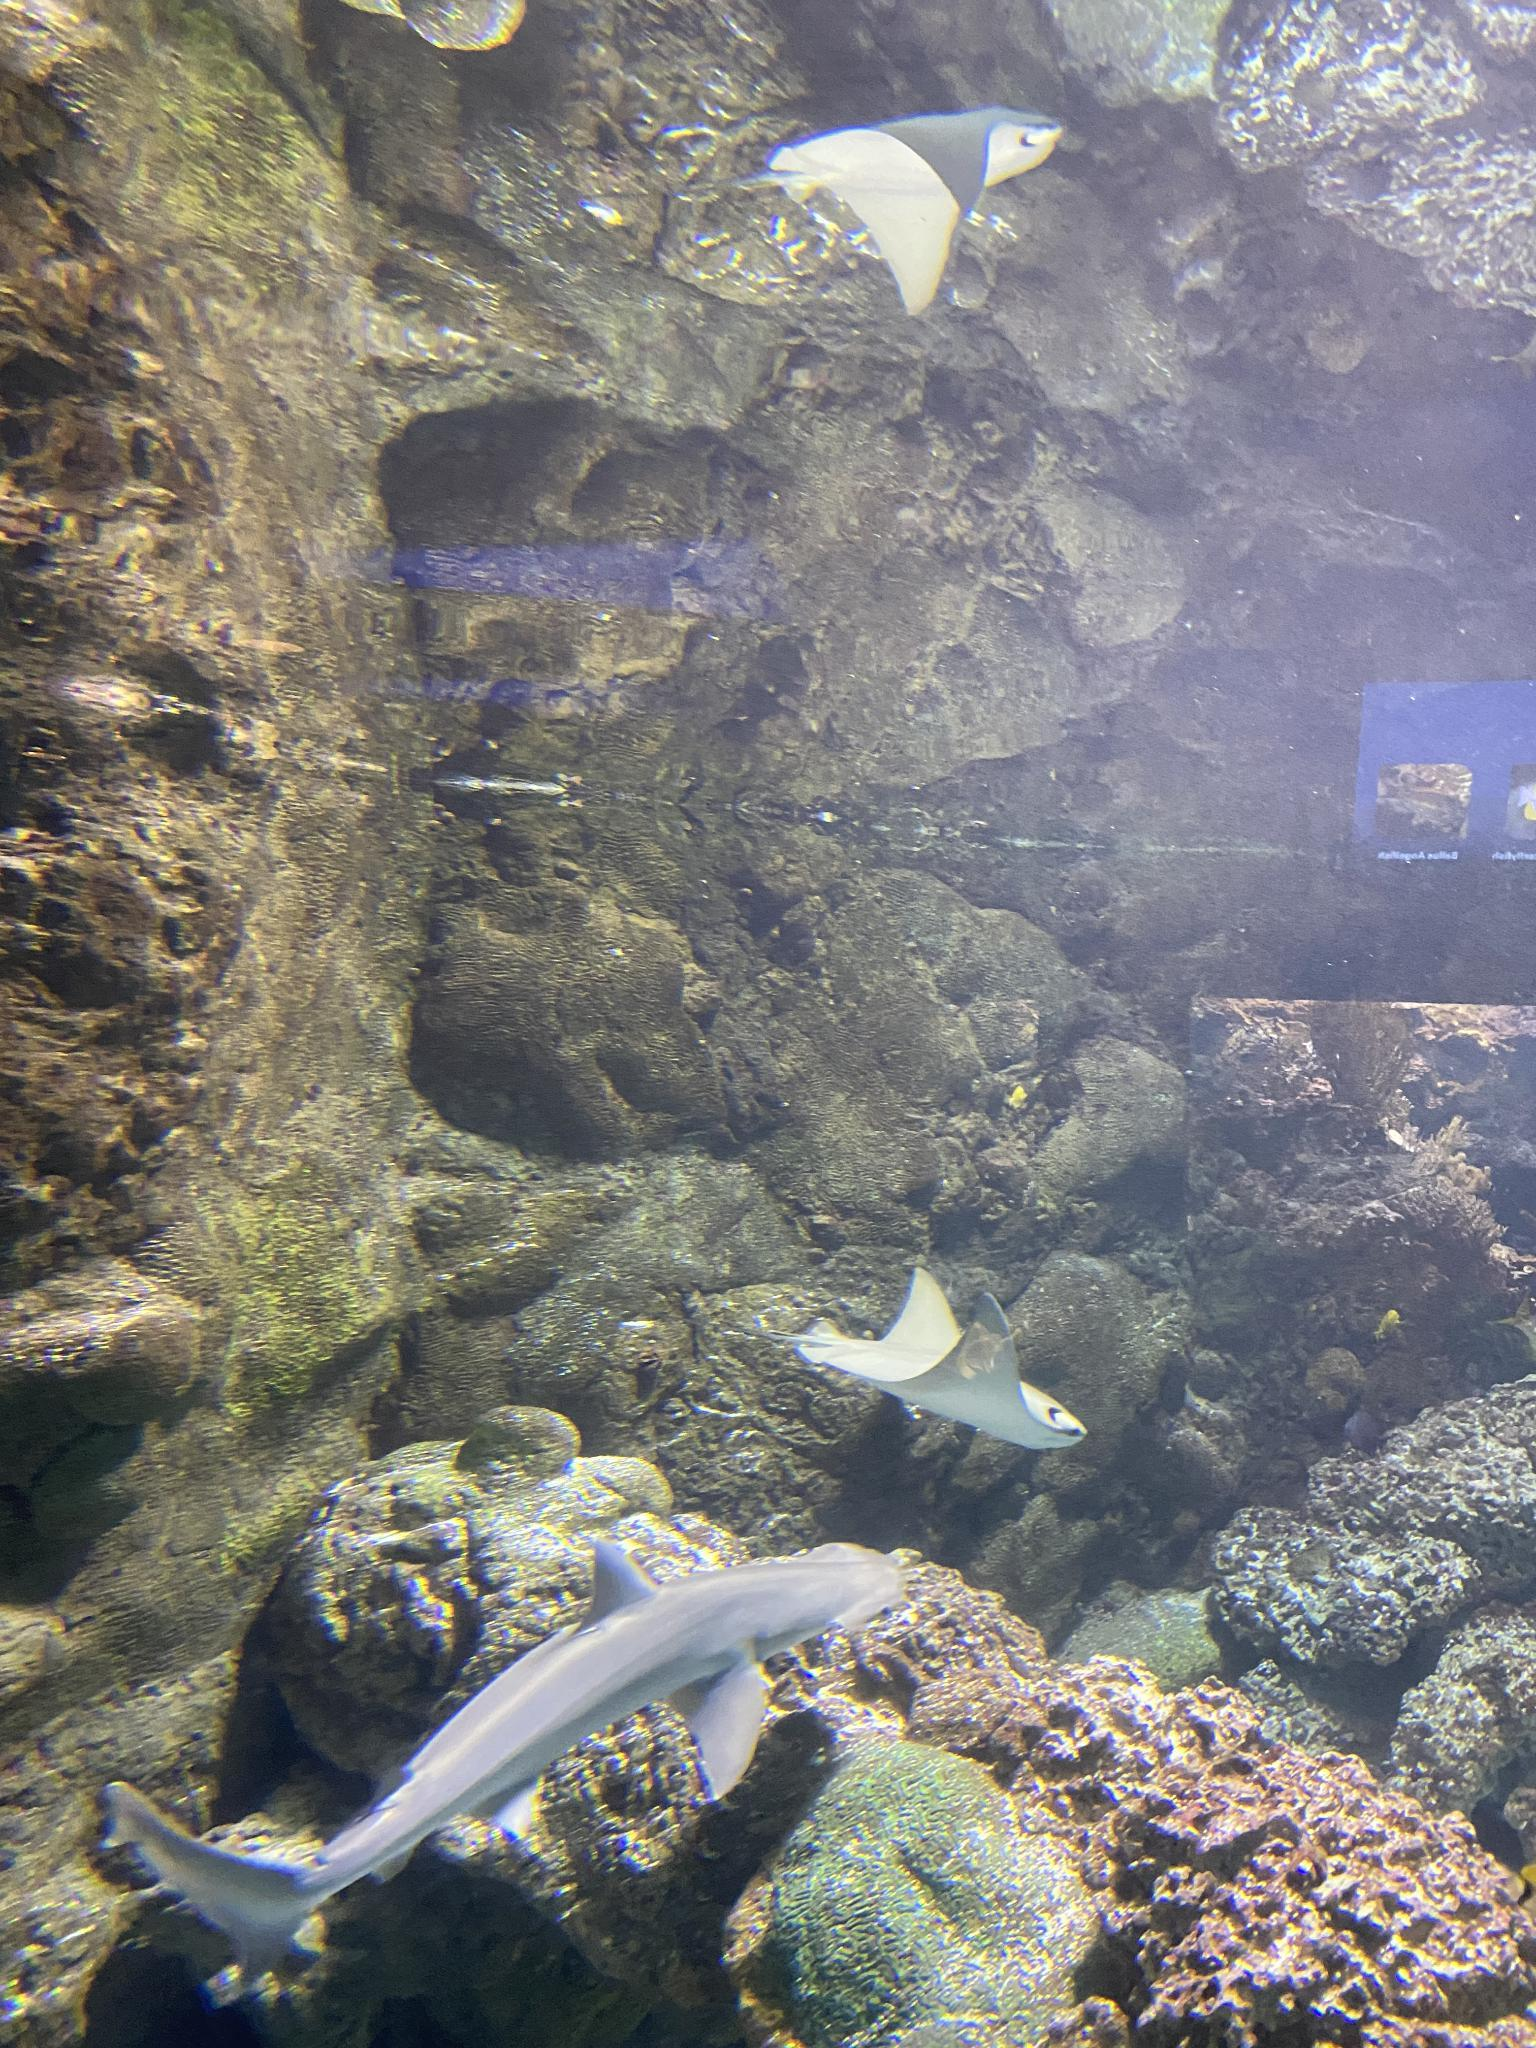shark: (110, 1538, 900, 1963)
stingray: (770, 102, 1063, 314), (797, 1268, 1087, 1471)
